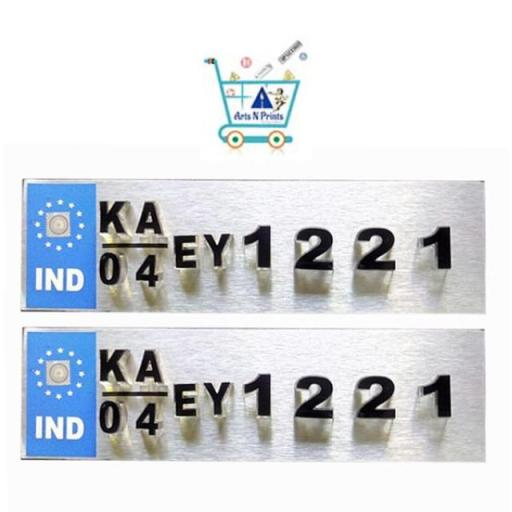number plate: (18, 330, 491, 464), (16, 181, 490, 314)
